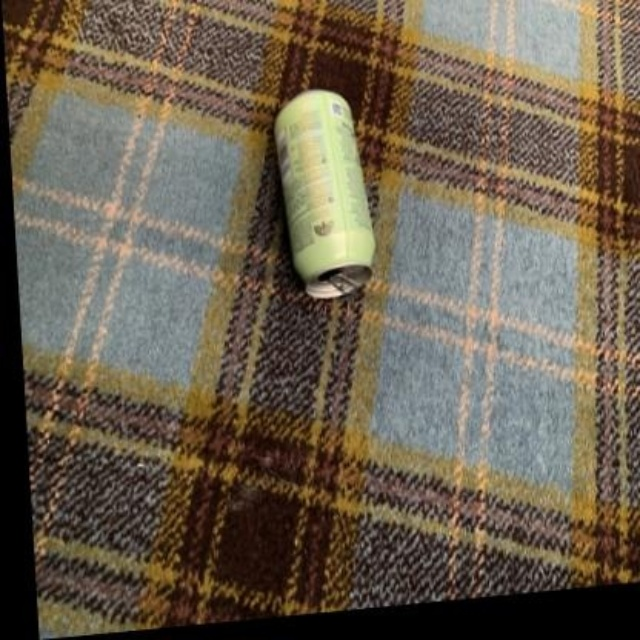trash: (274, 89, 374, 297)
